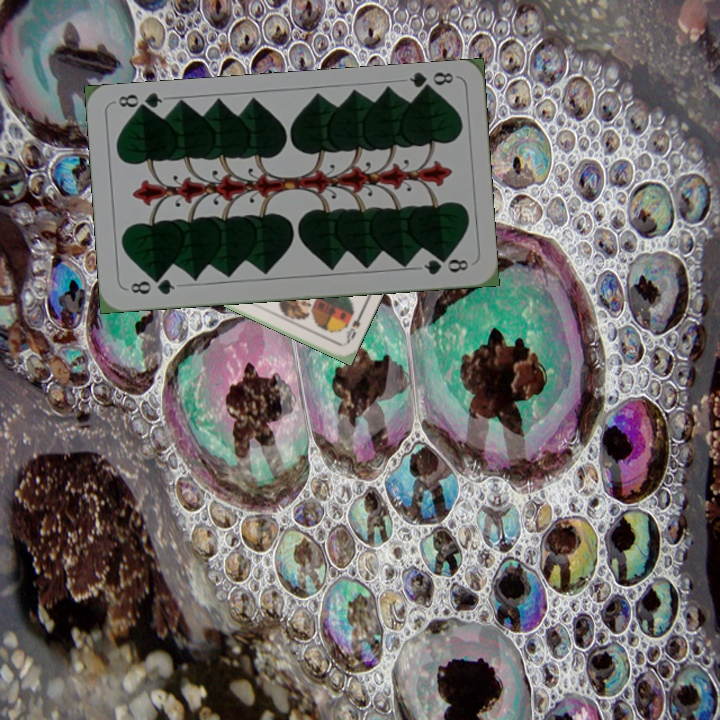G8: (405, 68, 456, 97), (126, 274, 177, 298)
SO: (342, 308, 365, 347)
